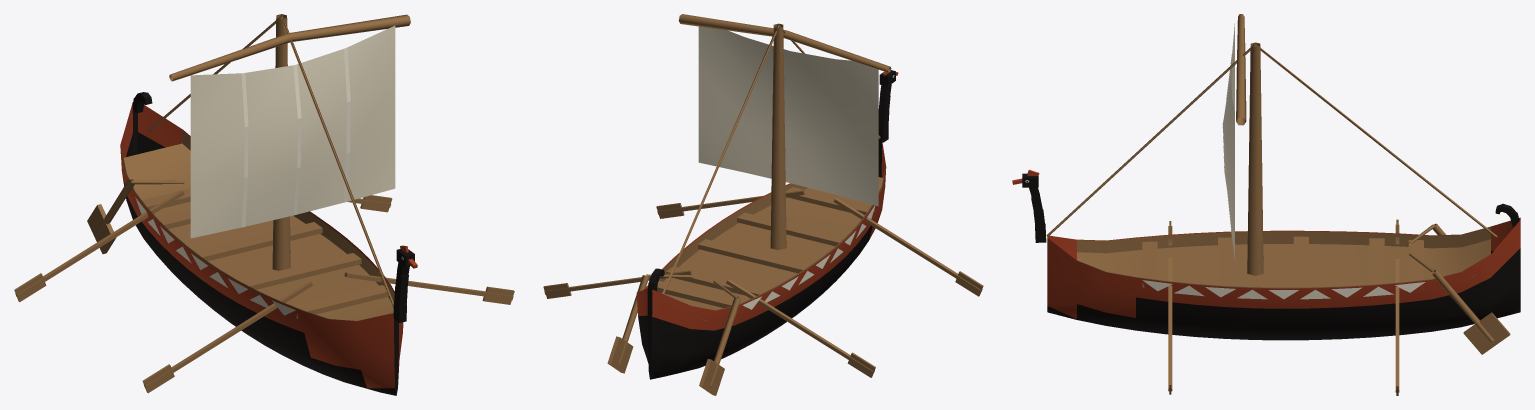
The model's file is ship_cutter_blockout_LOD1.obj.
3 views of the same model, side by side, from view 1: azimuth 30°, elevation 25°; view 2: azimuth 150°, elevation 25°; view 3: azimuth 270°, elevation 25° (orthographic). The views are drawn at different scales.
Parts seen in each view (by area): view 1: ship_cutter_blockout_LOD1; view 2: ship_cutter_blockout_LOD1; view 3: ship_cutter_blockout_LOD1.
Part boxes in pixels (x1,y1,x2,y2): ship_cutter_blockout_LOD1: (14, 14, 514, 395); ship_cutter_blockout_LOD1: (543, 14, 983, 395); ship_cutter_blockout_LOD1: (1012, 14, 1520, 395).
Size of the model in its own units: 9.29 by 7.46 by 11.97.
